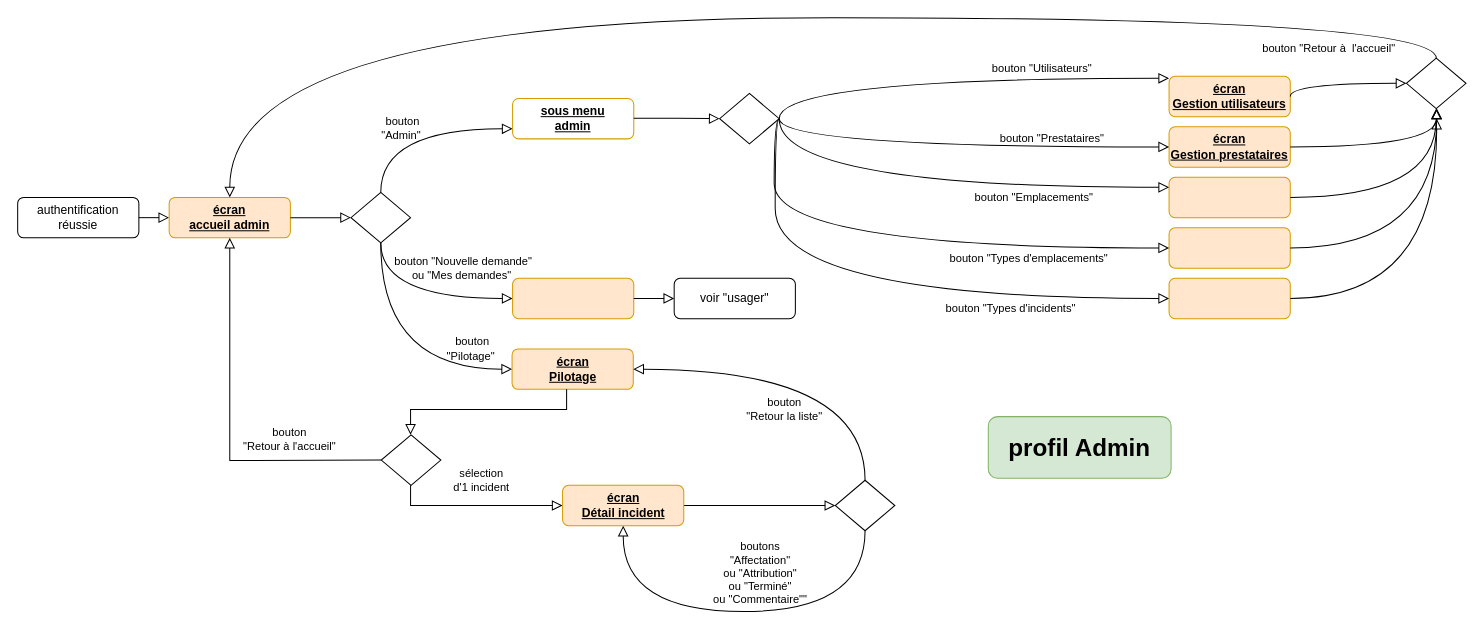
Some shapes in this 1484 by 629 pixel diagram are drawn without their labels. The shapes that lost their labels are listed below. From the top down, each one's centre as x and y in pixels, then its label:
At point 1229,197: "écran Gestion emp".
At point 1229,247: "écran Gestion temp".
At point 573,298: "écrans Nouvelle demande/ Mes demandes".
At point 1229,298: "écran Gestion tinc".
